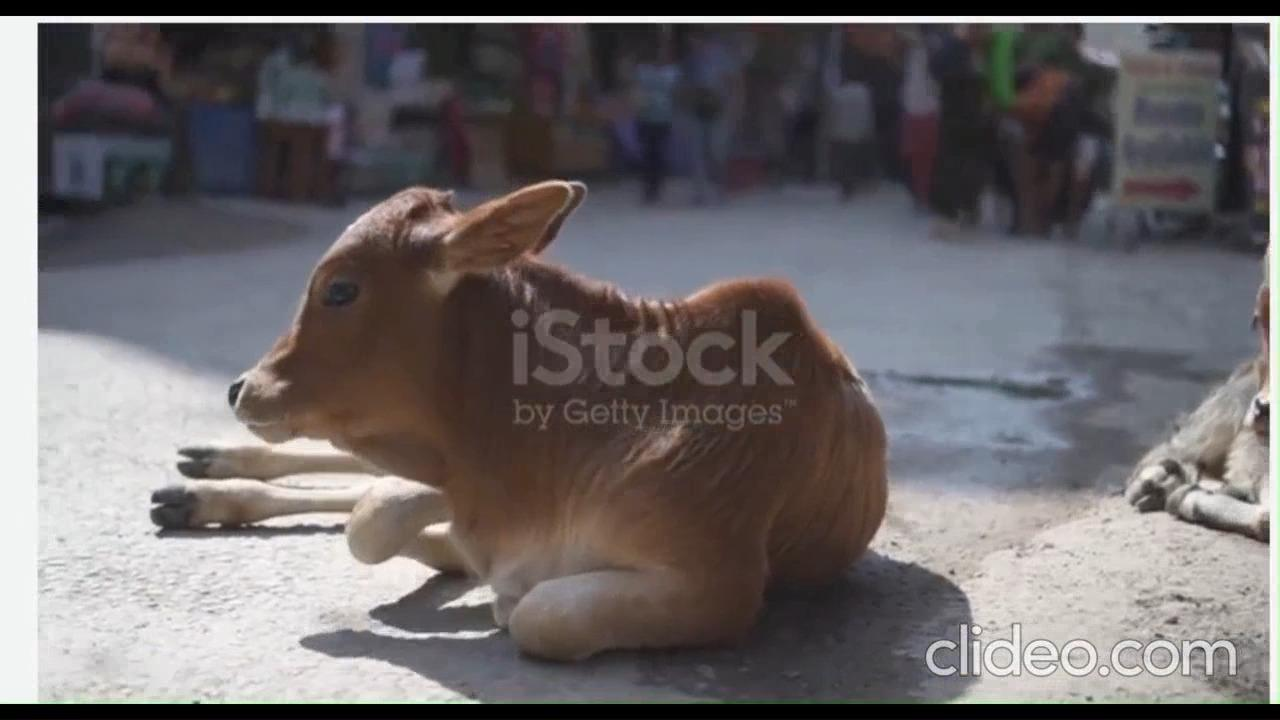Cow: (140, 170, 889, 661)
